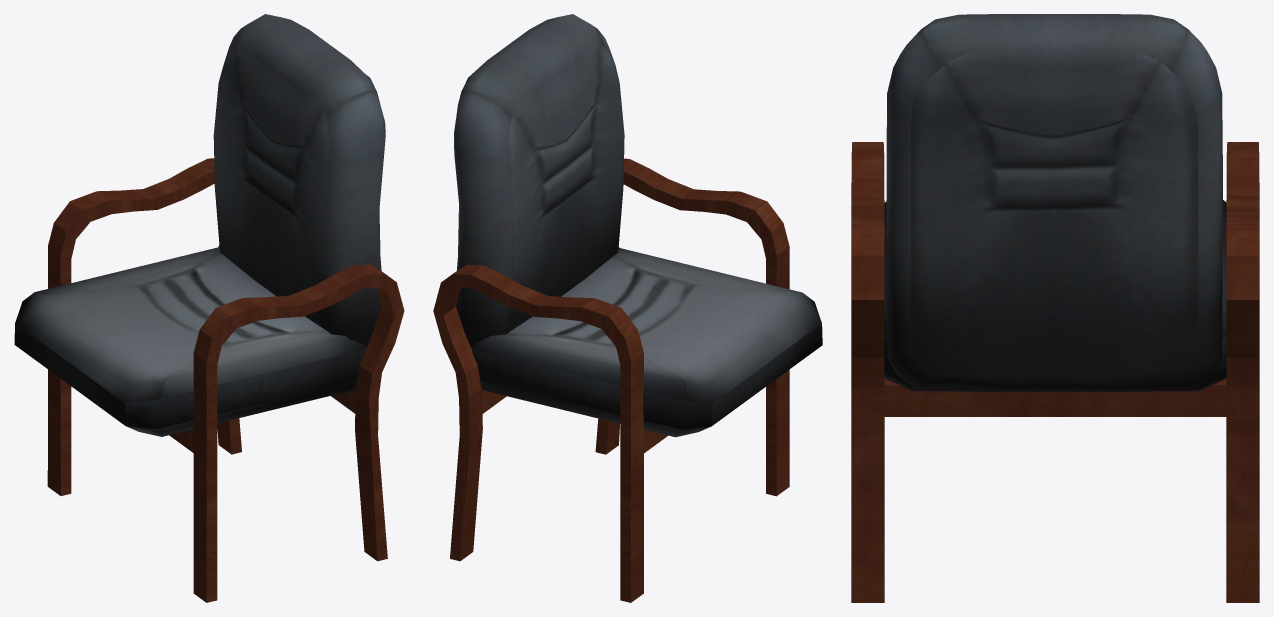
The picture shows the model from 3 angles, left to right: view 1: azimuth 30°, elevation 25°; view 2: azimuth 150°, elevation 25°; view 3: azimuth 270°, elevation 25°; orthographic projection. The views are drawn at different scales.
Parts seen in each view (by area): view 1: yz; view 2: yz; view 3: yz.
Boxes of the visible parts, x1,y1,x2,y2 form: yz: [14, 14, 404, 602]; yz: [433, 14, 822, 602]; yz: [851, 14, 1259, 602].
Size of the model in its own units: 0.572 by 0.9331 by 0.589.
1 material, 1 textured.
